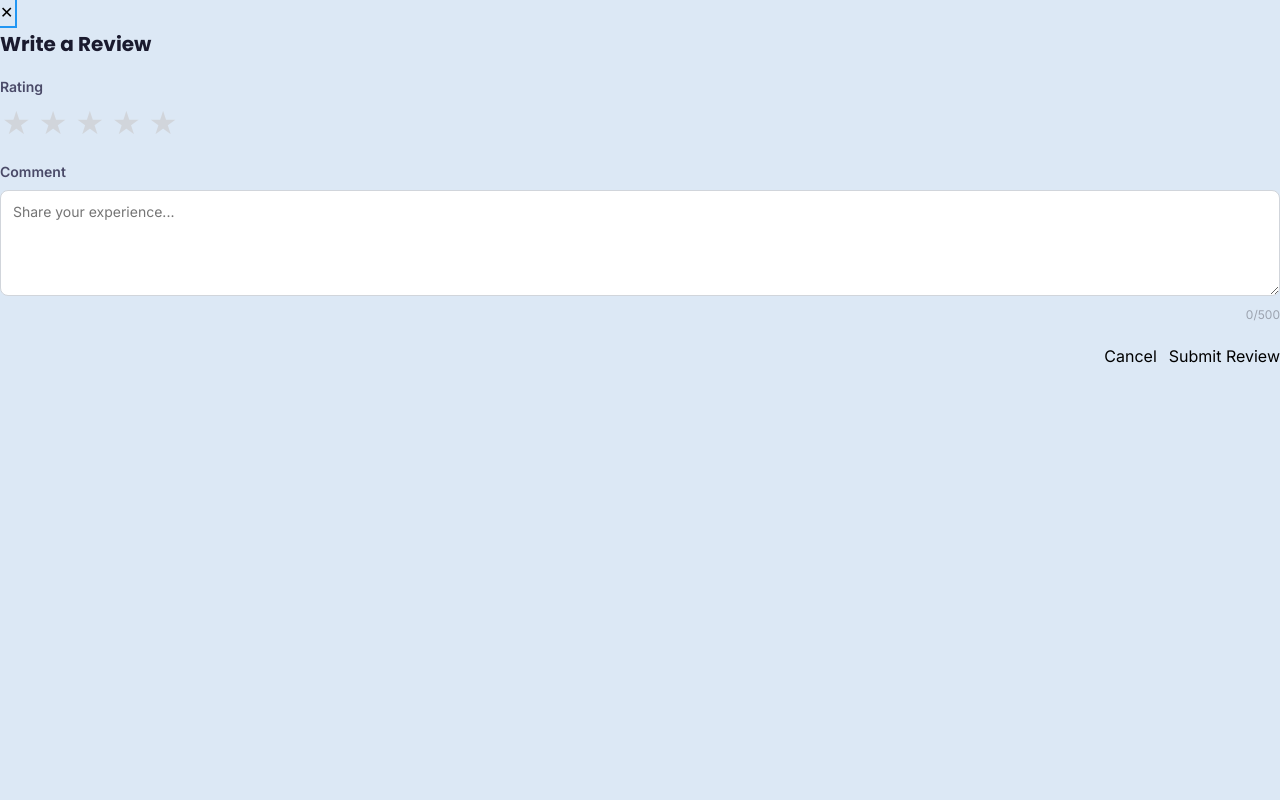
AddReviewModal › shows error when Submit clicked with rating but no comment
Click the button with test id "add-review-modal-star-3": (90, 123) [73,105,106,141]
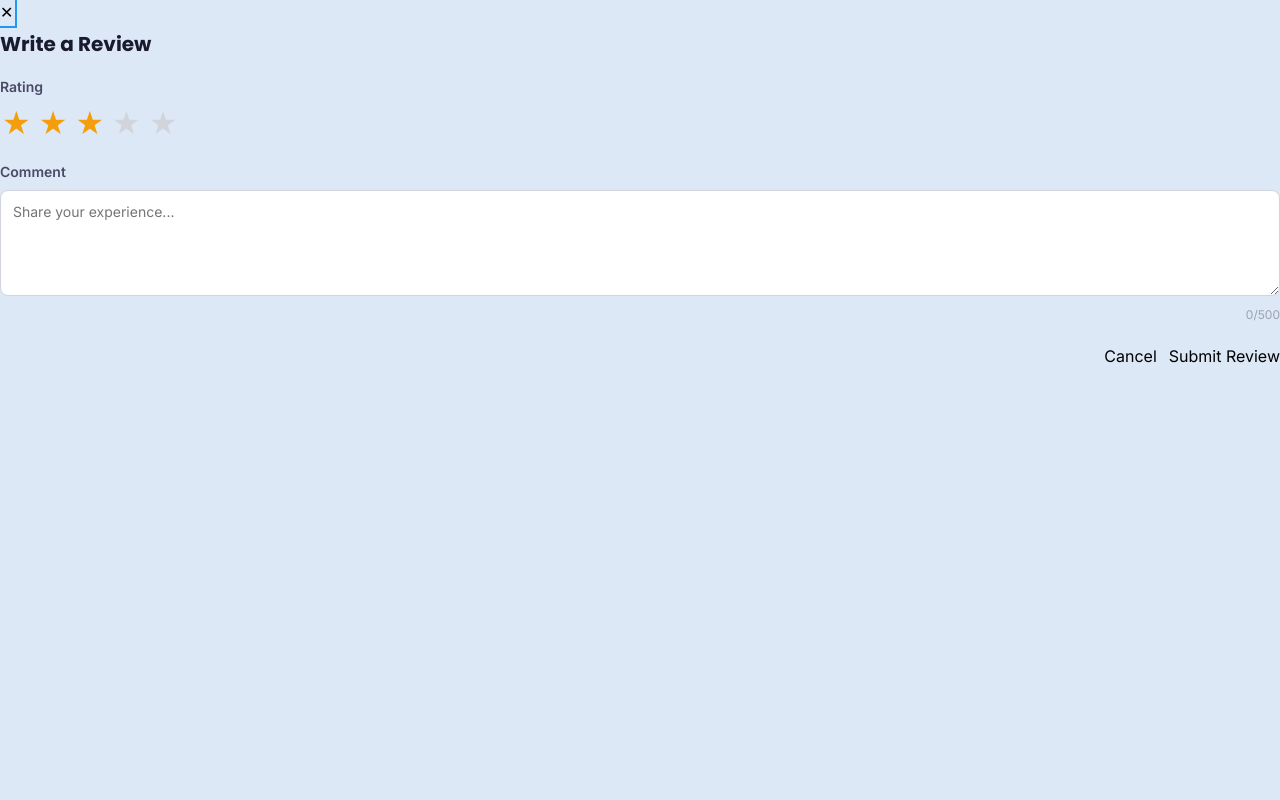
Click the button with test id "add-review-modal-submit": (1224, 356) [1169,344,1279,368]
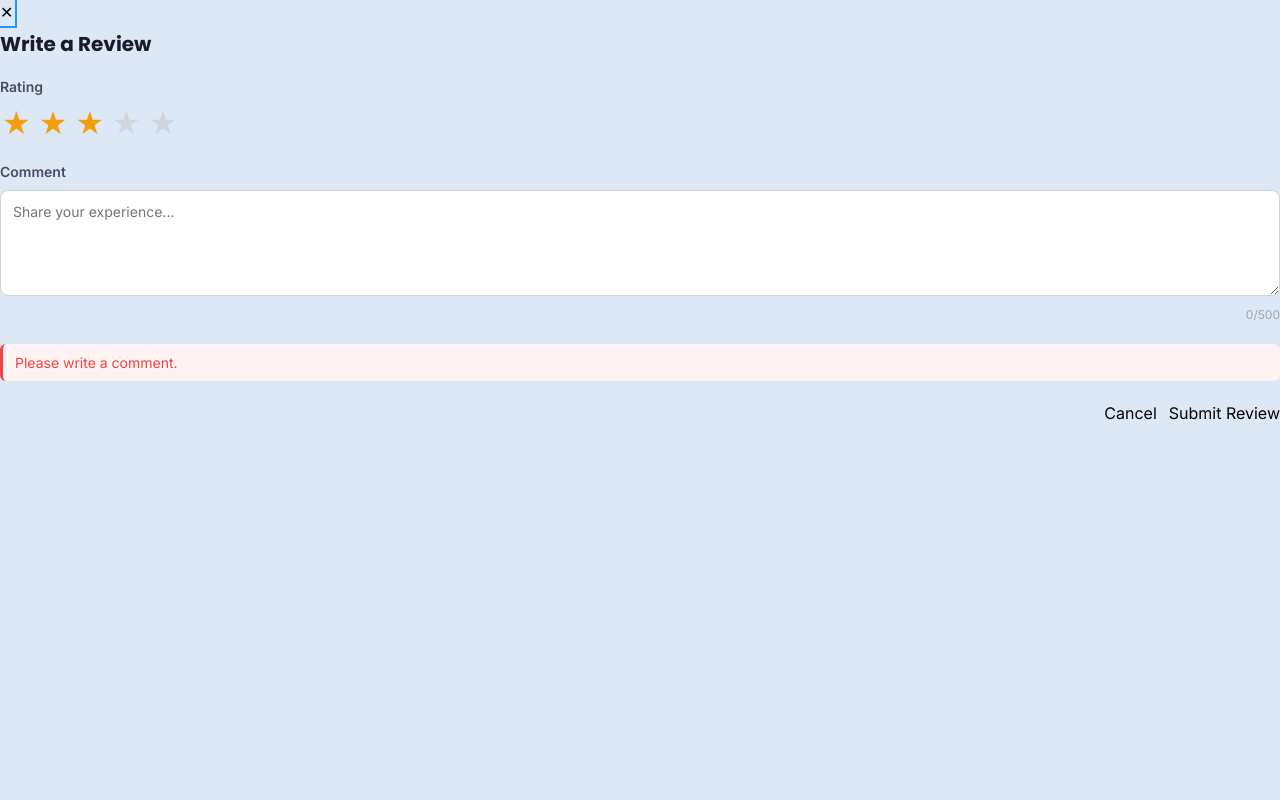
Check: the text with test id "add-review-modal-error" reads "Please write a comment.", box [15,354,178,371]
